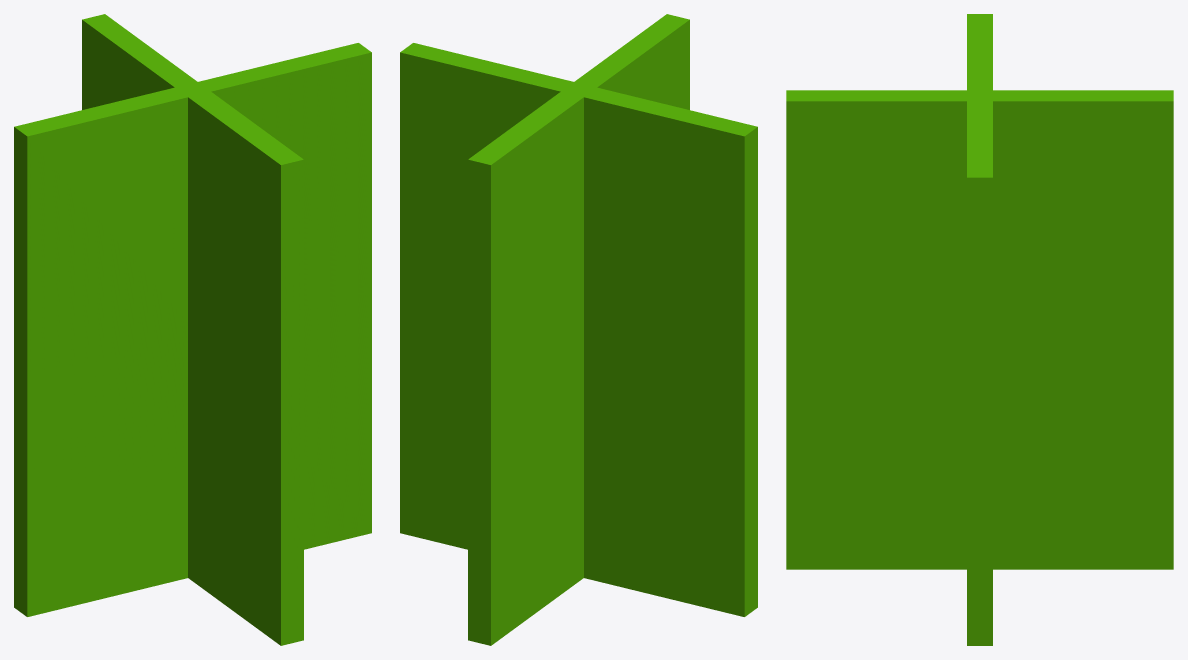
File: testwall+.glb
3 views of the same model, side by side, from view 1: azimuth 30°, elevation 25°; view 2: azimuth 150°, elevation 25°; view 3: azimuth 270°, elevation 25° (orthographic). The views are drawn at different scales.
Parts seen in each view (by area): view 1: Cube; view 2: Cube; view 3: Cube.
Boxes of the visible parts, bbox=[...] form: Cube: bbox=[14, 14, 371, 645]; Cube: bbox=[400, 14, 757, 645]; Cube: bbox=[786, 14, 1173, 645].
Size of the model in its own units: 1.5 by 2 by 1.5.
